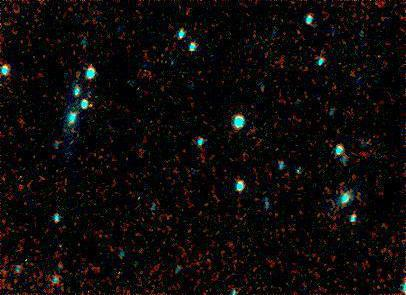star: (76, 89, 106, 119)
